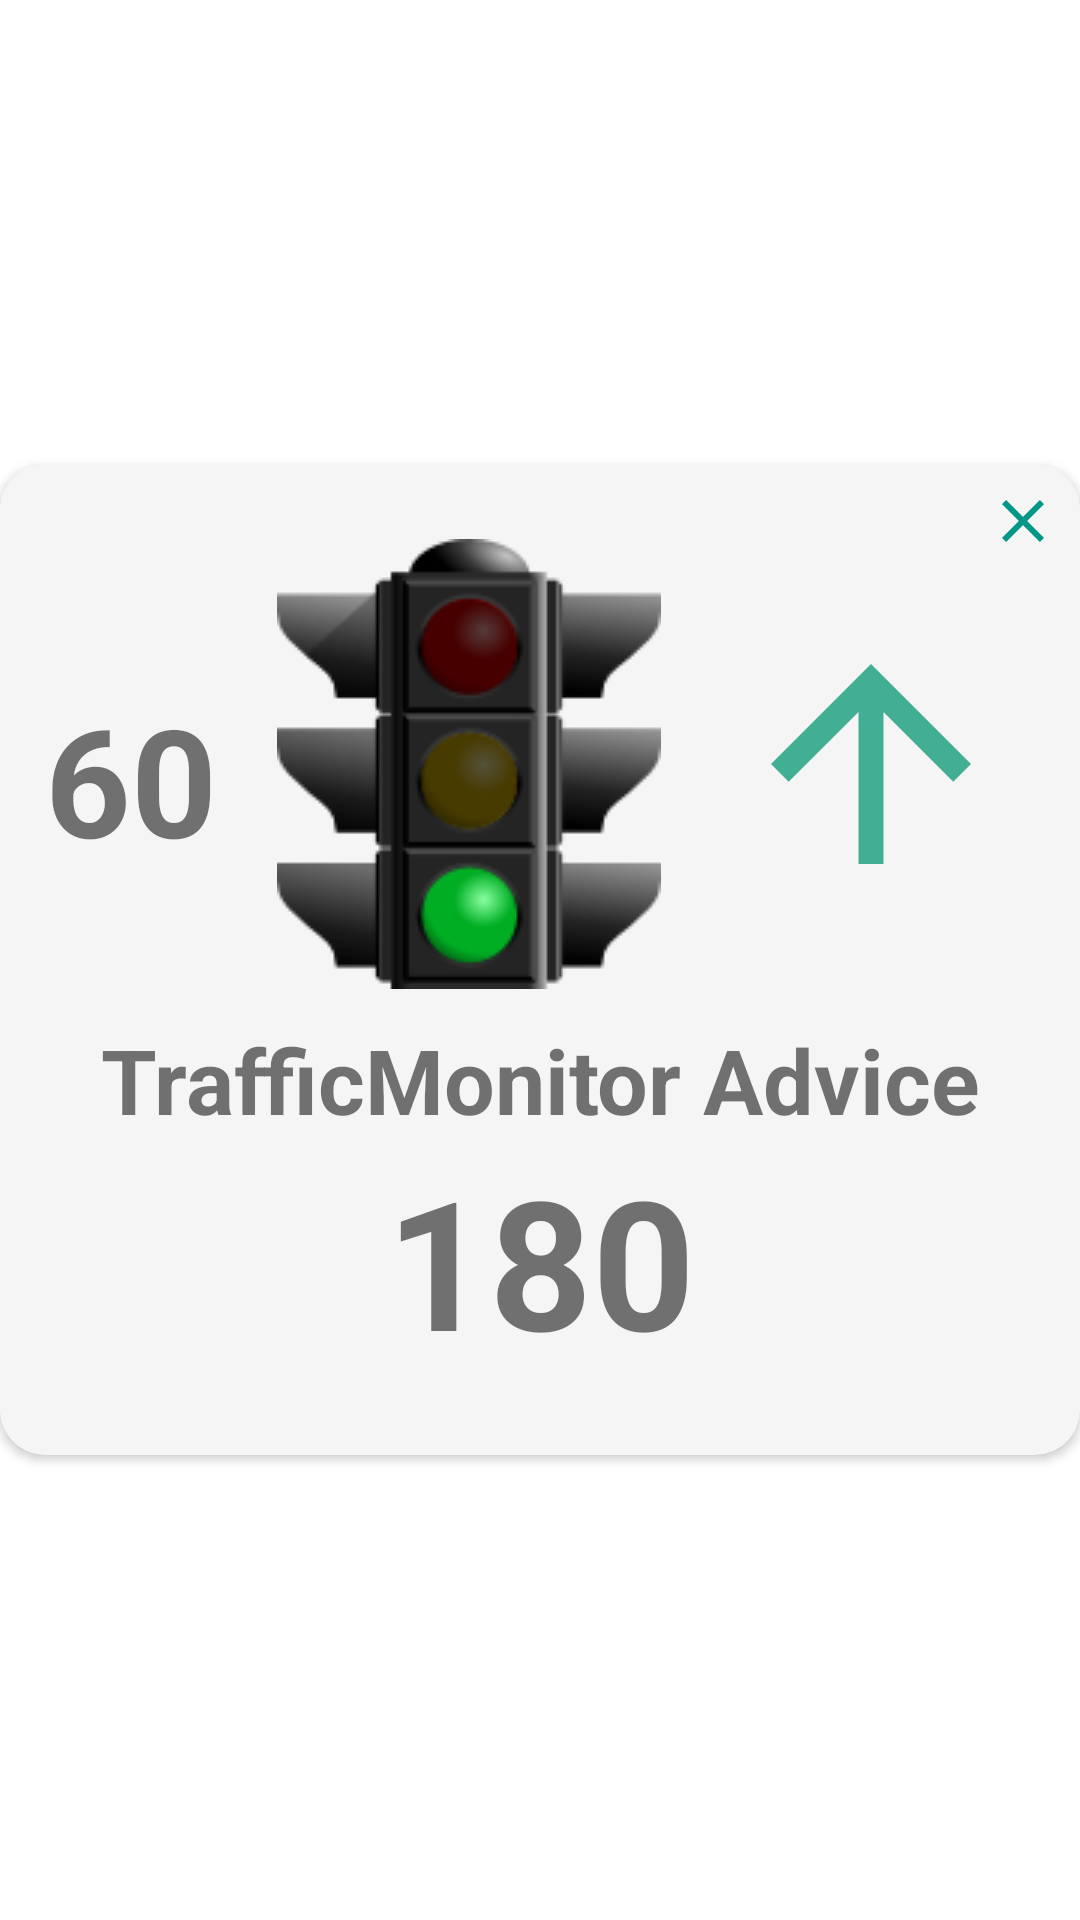

Point at icon controls on the screen. Image size 1080px x 1920px, points as (x=x, y=y).
close: (x=1023, y=521)
straight: (x=871, y=764)
